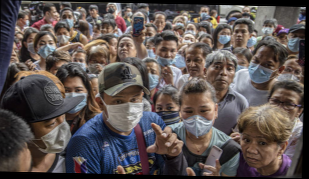mask_weared_incorrect: (154, 46, 176, 68), (97, 24, 112, 38), (276, 33, 287, 47), (47, 8, 57, 23)
with_mask: (103, 92, 144, 132), (34, 112, 72, 155), (179, 103, 215, 137), (246, 54, 274, 84), (62, 85, 87, 115), (154, 101, 180, 127), (276, 64, 302, 81), (285, 31, 304, 53), (36, 38, 55, 59), (144, 66, 158, 92), (86, 57, 106, 75), (216, 29, 231, 45), (53, 30, 69, 45), (59, 12, 74, 28), (141, 30, 155, 47), (69, 56, 86, 70), (172, 49, 185, 67), (25, 36, 37, 54), (143, 43, 157, 58), (233, 56, 246, 72), (260, 22, 274, 36), (245, 32, 257, 48), (182, 25, 196, 36), (90, 84, 100, 98), (182, 35, 194, 46), (196, 27, 208, 38), (90, 26, 99, 39), (174, 18, 184, 28), (198, 8, 207, 19), (240, 8, 250, 17), (106, 4, 115, 14), (22, 17, 30, 27), (180, 13, 188, 22), (226, 20, 233, 30), (125, 8, 132, 17), (144, 6, 149, 16), (213, 11, 218, 19)
without_mask: (237, 131, 274, 168), (205, 60, 234, 90), (266, 94, 299, 119), (184, 54, 204, 78), (116, 40, 136, 61), (231, 27, 248, 45), (8, 45, 17, 64), (152, 17, 164, 31), (109, 40, 117, 57), (88, 7, 95, 16)
